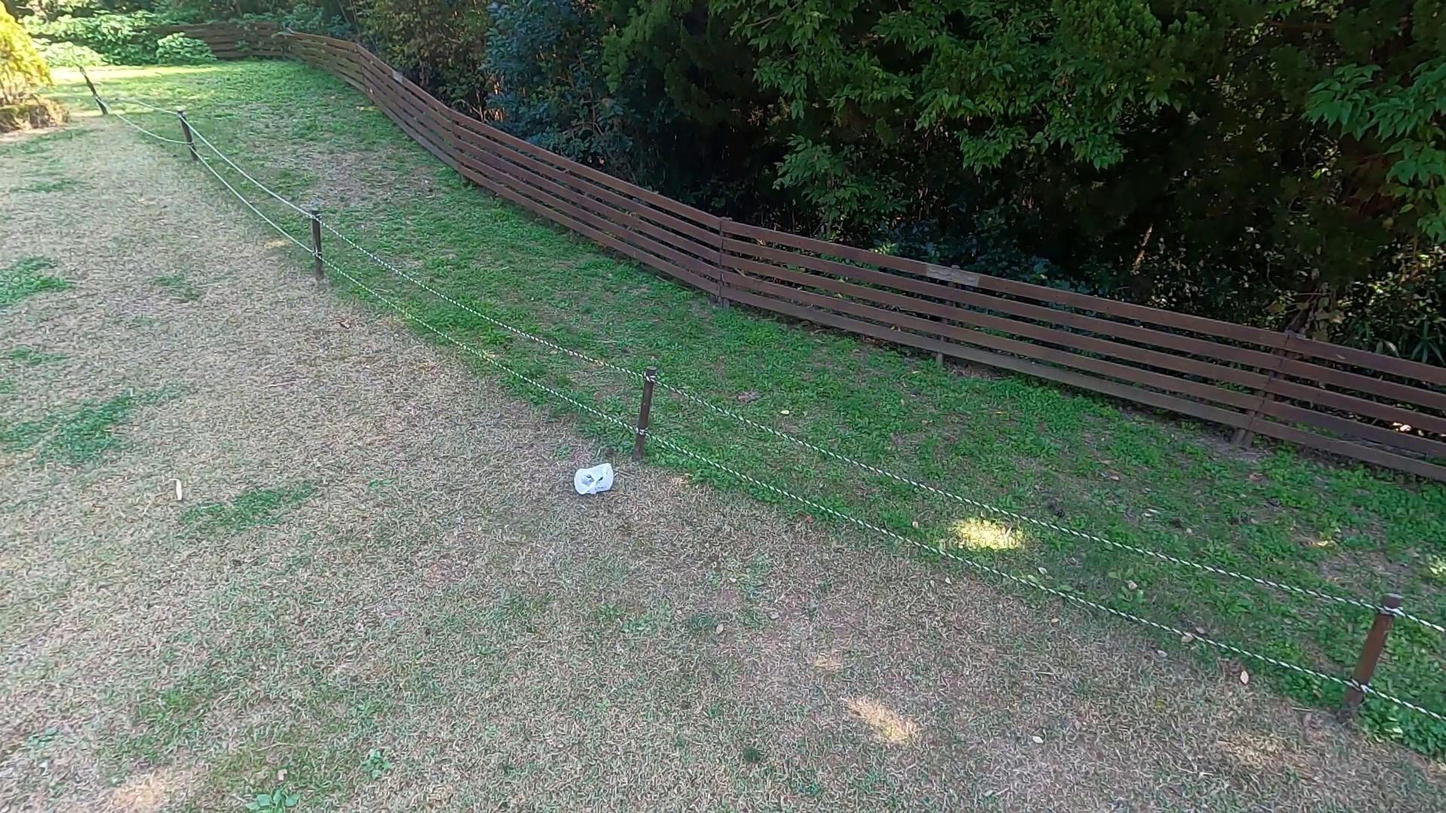trash: (576, 463, 618, 497)
